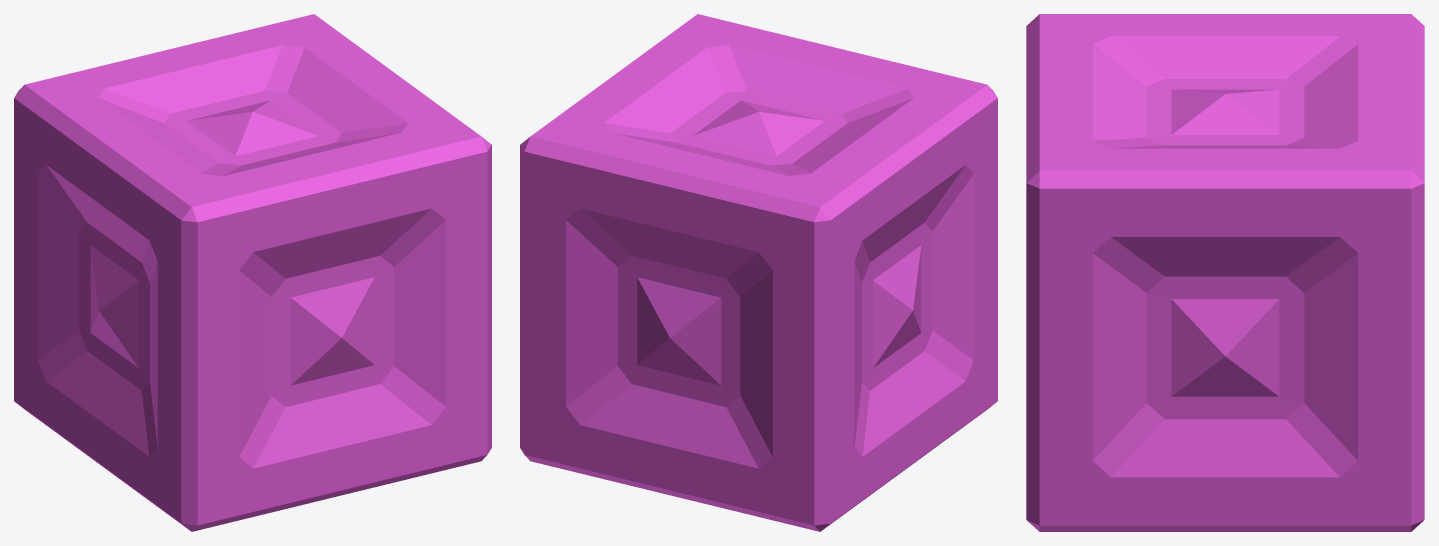
Rendered from Pylon.glb.
3 renders of one model, left to right at view 1: azimuth 30°, elevation 25°; view 2: azimuth 150°, elevation 25°; view 3: azimuth 270°, elevation 25°, orthographic. The views are drawn at different scales.
Parts seen in each view (by area): view 1: Origin Pylon; view 2: Origin Pylon; view 3: Origin Pylon.
Part boxes in pixels (x1,y1,x2,y2): Origin Pylon: [14, 14, 491, 531]; Origin Pylon: [520, 14, 997, 531]; Origin Pylon: [1026, 14, 1424, 531].
Bounding box in the file's own units: 3 × 3 × 3.
